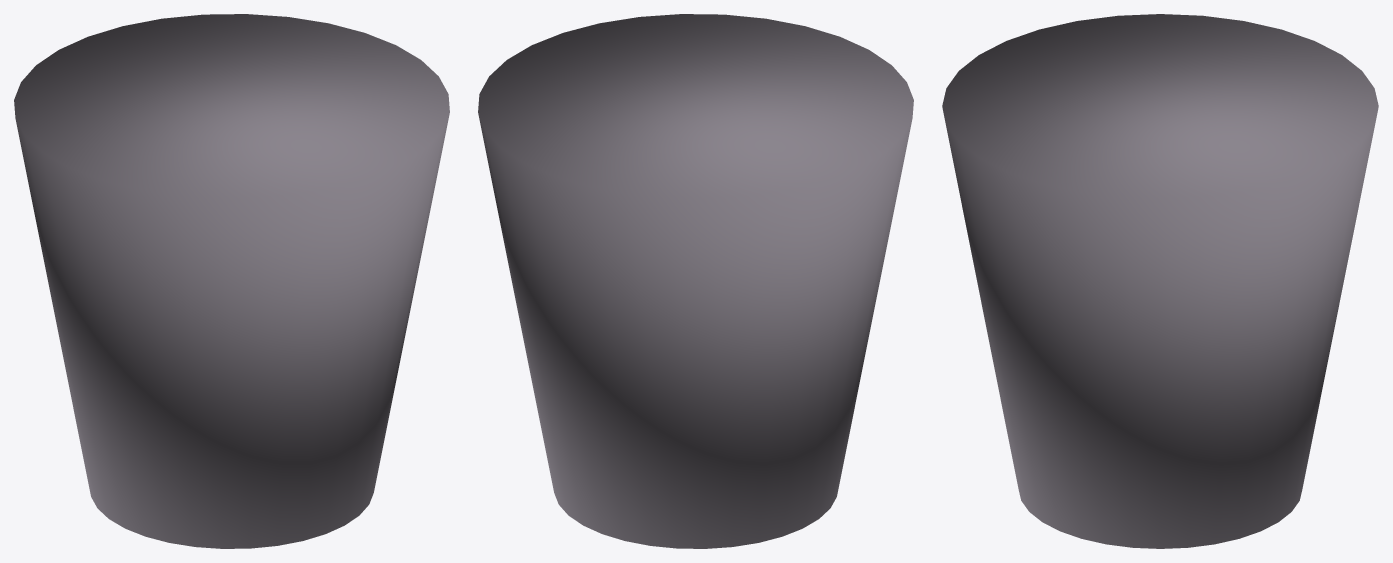
File: rope_base.fbx
3 renders of one model, left to right at view 1: azimuth 30°, elevation 25°; view 2: azimuth 150°, elevation 25°; view 3: azimuth 270°, elevation 25°, orthographic.
Parts seen in each view (by area): view 1: Cylinder; view 2: Cylinder; view 3: Cylinder.
Boxes of the visible parts, x1=… form: Cylinder: x1=14, y1=14, x2=449, y2=548; Cylinder: x1=478, y1=14, x2=913, y2=548; Cylinder: x1=942, y1=14, x2=1378, y2=548.
Bounding box in the file's own units: 13.66 × 13.21 × 13.66.
